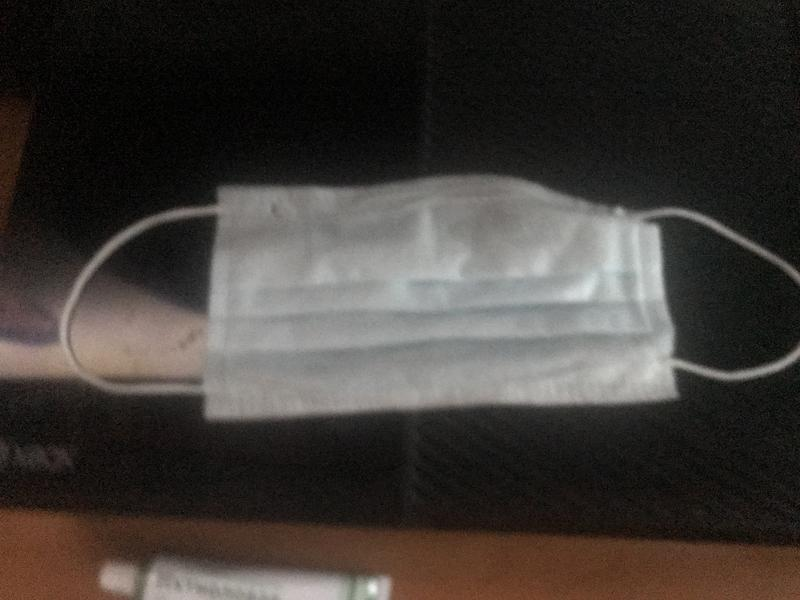medical_mask: (60, 174, 800, 417)
